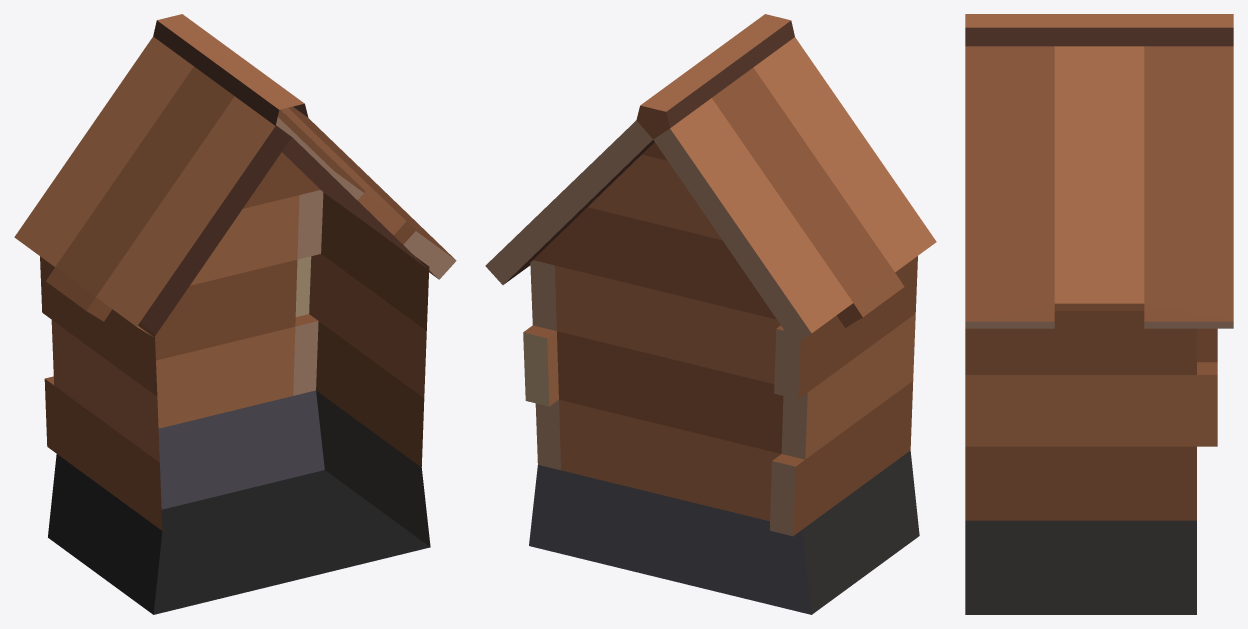
File: TB_Bd_WoodHouse_Door.FBX
3 views of the same model, side by side, from view 1: azimuth 30°, elevation 25°; view 2: azimuth 150°, elevation 25°; view 3: azimuth 270°, elevation 25° (orthographic). The views are drawn at different scales.
Visible parts, largest first — view 1: TB_Bd_WoodHouse_Door; view 2: TB_Bd_WoodHouse_Door; view 3: TB_Bd_WoodHouse_Door.
Boxes of the visible parts, x1,y1,x2,y2 form: TB_Bd_WoodHouse_Door: [14, 14, 456, 614]; TB_Bd_WoodHouse_Door: [485, 14, 936, 614]; TB_Bd_WoodHouse_Door: [965, 14, 1233, 614].
Size of the model in its own units: 2.27 by 3.12 by 1.46.
